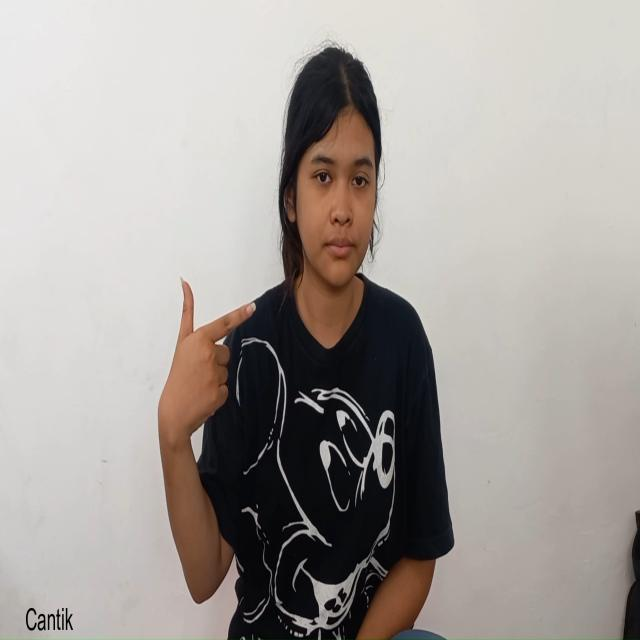Cantik -BISINDO-: (157, 26, 402, 487)
